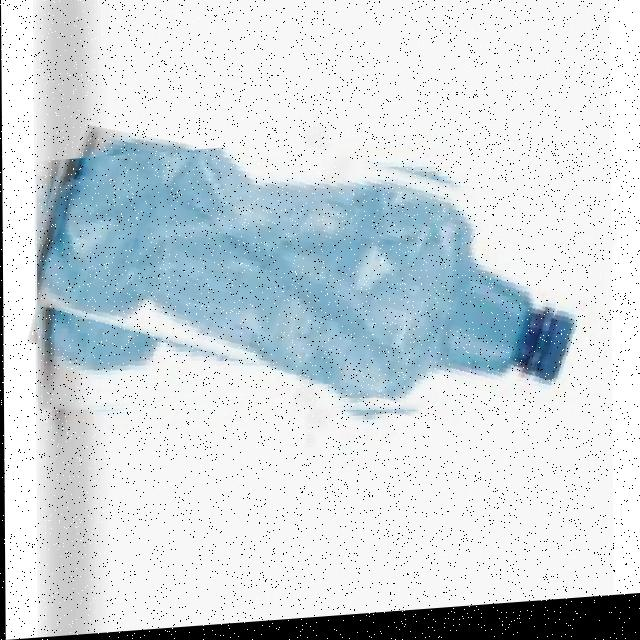plasticbottle: (34, 129, 610, 452)
